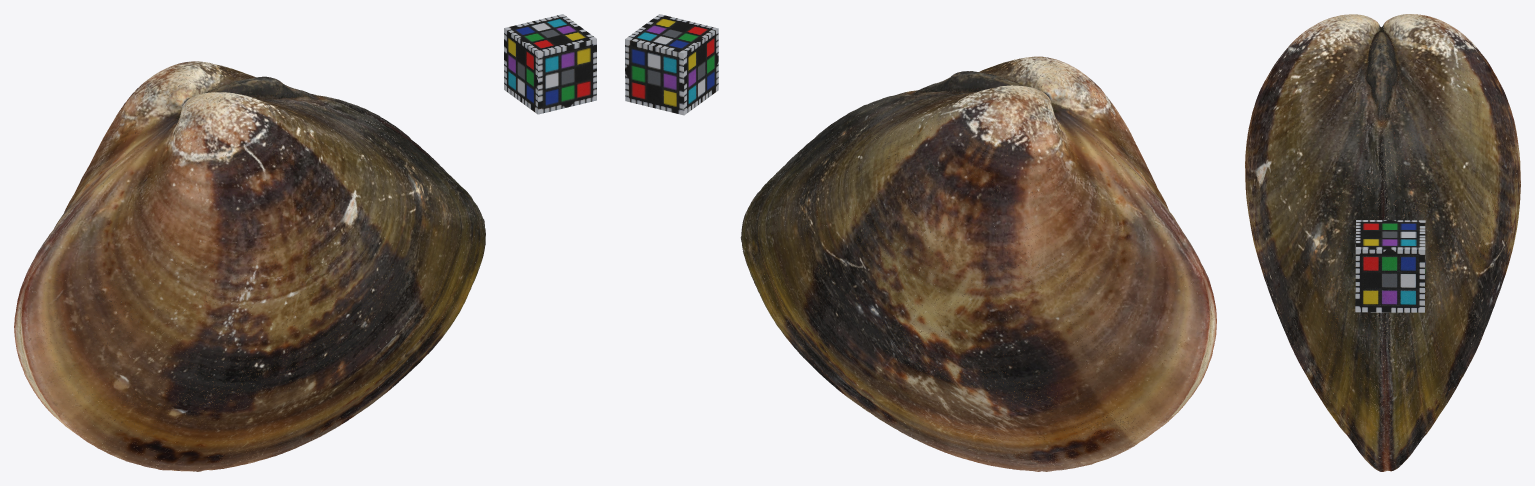
File: clam.glb
The picture shows the model from 3 angles, left to right: view 1: azimuth 30°, elevation 25°; view 2: azimuth 150°, elevation 25°; view 3: azimuth 270°, elevation 25°; orthographic projection. The views are drawn at different scales.
Parts seen in each view (by area): view 1: Q11201-1all_5, Cube_2; view 2: Q11201-1all_5, Cube_2; view 3: Q11201-1all_5, Cube_2.
Part boxes in pixels (bbox=[...]): Q11201-1all_5: bbox=[14, 61, 485, 471]; Cube_2: bbox=[504, 14, 596, 114]; Q11201-1all_5: bbox=[740, 56, 1216, 471]; Cube_2: bbox=[625, 14, 718, 115]; Q11201-1all_5: bbox=[1245, 14, 1520, 471]; Cube_2: bbox=[1355, 220, 1425, 312].
Size of the model in its own units: 5.19 by 3.43 by 2.15.
2 materials, 2 textured.
